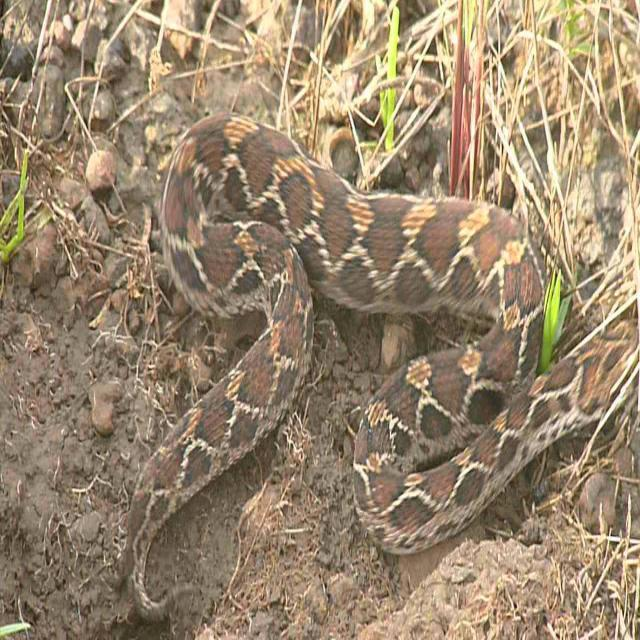Snake: (120, 108, 640, 627)
